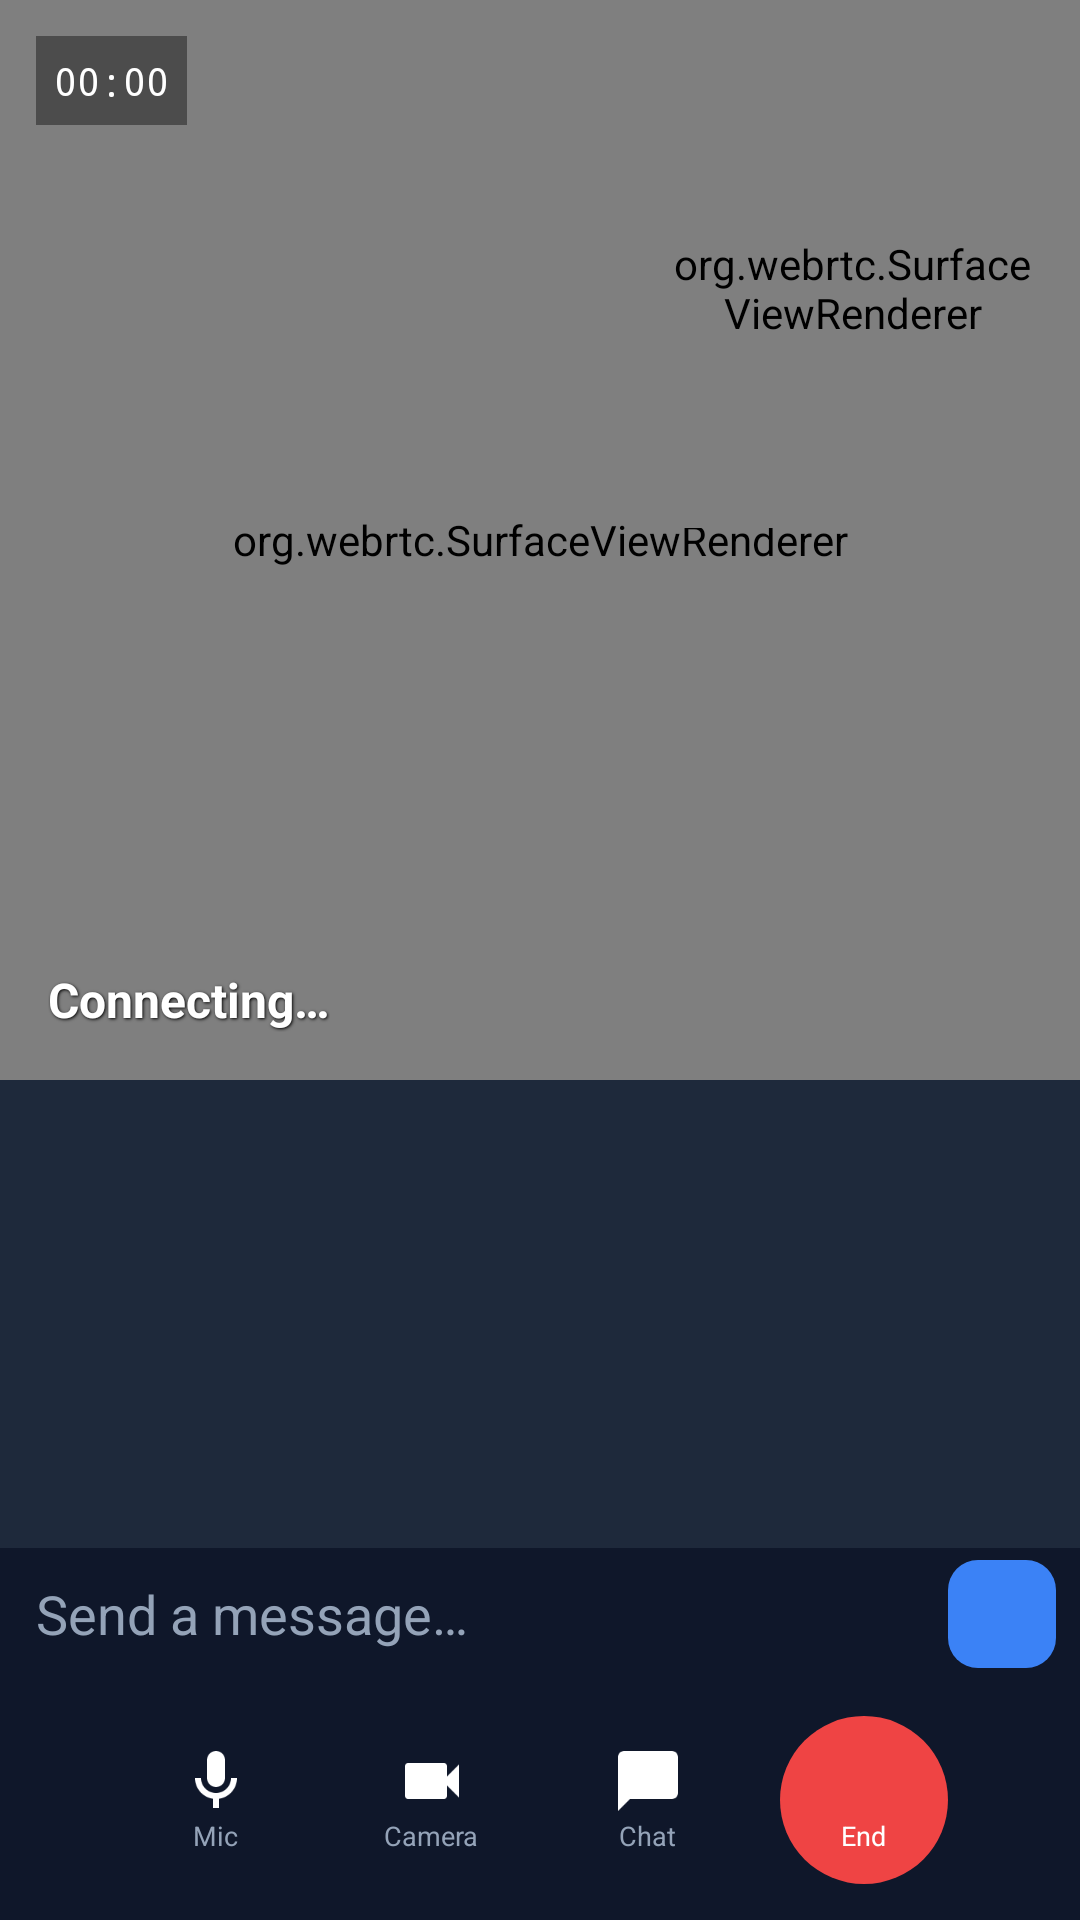

Icon click points for this 1080×1920 phone screenshot, format (x=x, y=y):
videocam: (x=432, y=1781)
